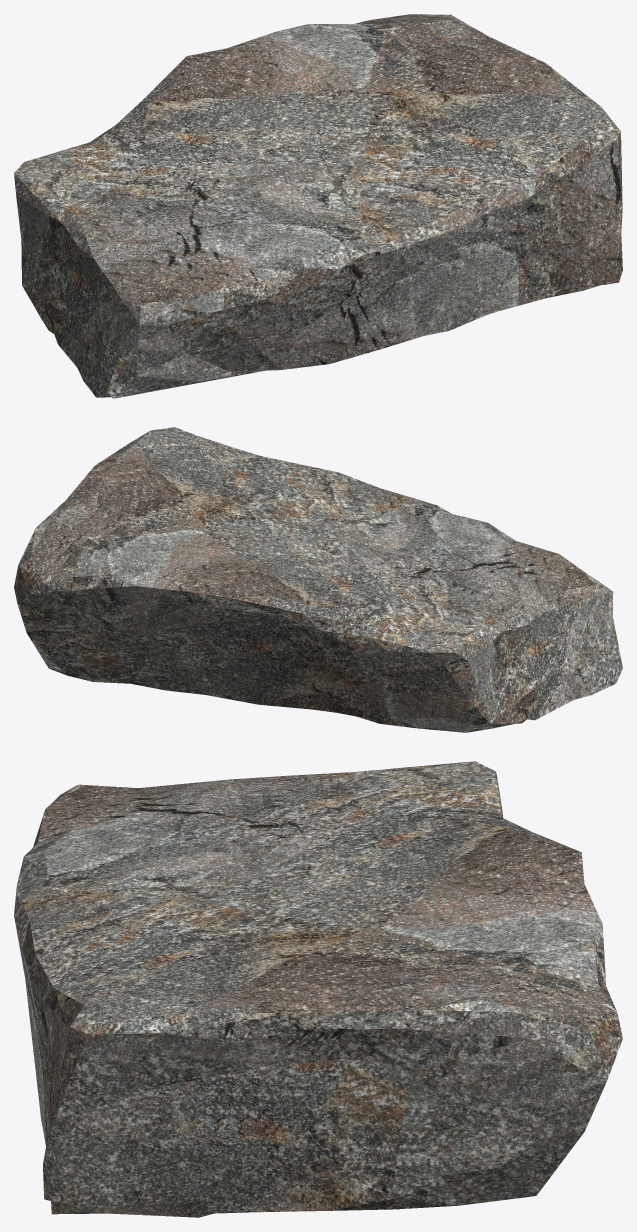
The model's file is Stone2.fbx.
The picture shows the model from 3 angles, top to bottom: view 1: azimuth 30°, elevation 25°; view 2: azimuth 150°, elevation 25°; view 3: azimuth 270°, elevation 25°; orthographic projection. The views are drawn at different scales.
Visible parts, largest first — view 1: skp11D1; view 2: skp11D1; view 3: skp11D1.
Part boxes in pixels (x1=…): skp11D1: x1=14, y1=14, x2=622, y2=398; skp11D1: x1=14, y1=427, x2=622, y2=732; skp11D1: x1=14, y1=761, x2=622, y2=1217.
Bounding box in the file's own units: 0.9799 × 0.298 × 0.718.
